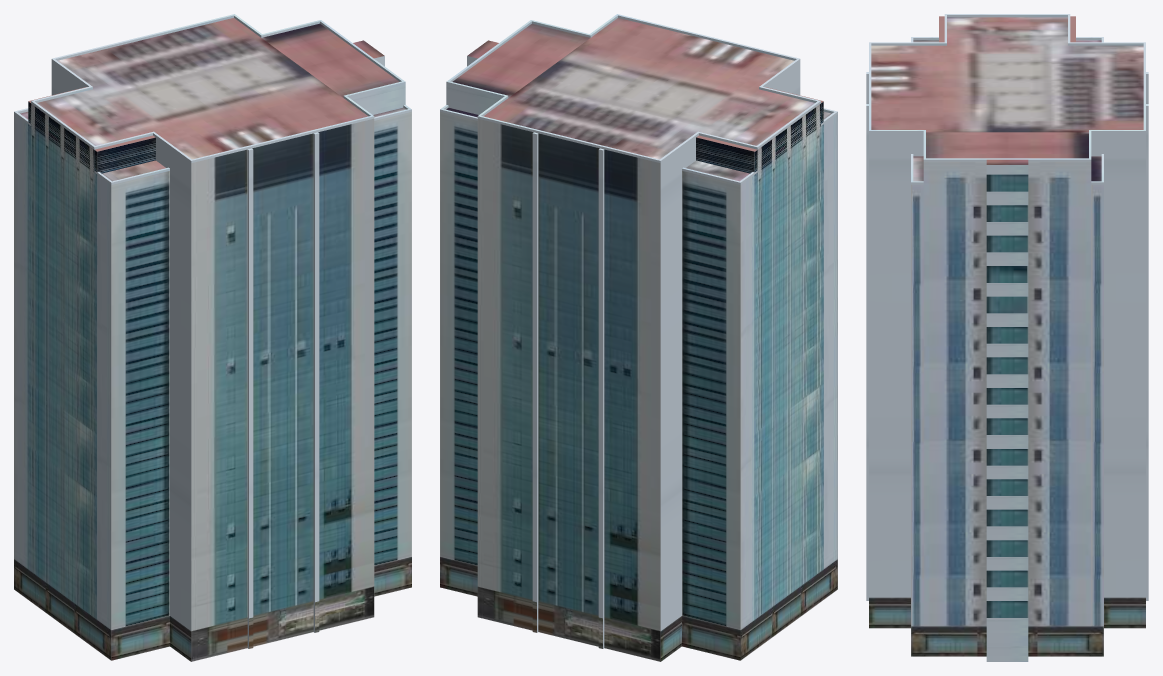
3 renders of one model, left to right at view 1: azimuth 30°, elevation 25°; view 2: azimuth 150°, elevation 25°; view 3: azimuth 270°, elevation 25°, orthographic.
Parts seen in each view (by area): view 1: HN560___Bao_hiem_tien_gui_Viet_Nam; view 2: HN560___Bao_hiem_tien_gui_Viet_Nam; view 3: HN560___Bao_hiem_tien_gui_Viet_Nam.
Part boxes in pixels (x1=…): HN560___Bao_hiem_tien_gui_Viet_Nam: x1=14, y1=14, x2=411, y2=661; HN560___Bao_hiem_tien_gui_Viet_Nam: x1=440, y1=14, x2=837, y2=661; HN560___Bao_hiem_tien_gui_Viet_Nam: x1=866, y1=14, x2=1148, y2=661.
Bounding box in the file's own units: 42.5 × 65.3 × 33.6.
Materials: 1 (1 with a texture image).
